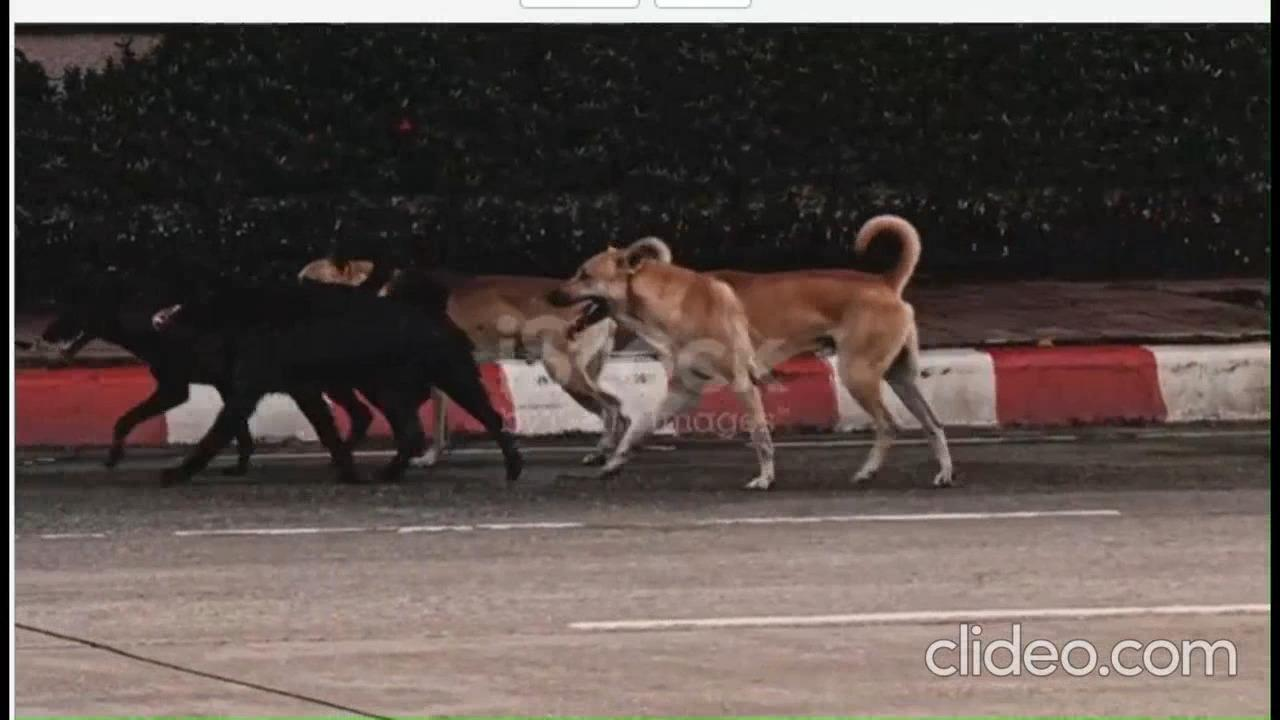dog: (561, 208, 959, 488), (136, 245, 525, 483), (26, 255, 344, 475)
